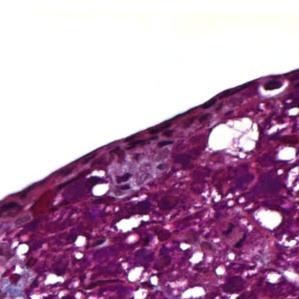ballooning: (204, 116, 262, 159)
